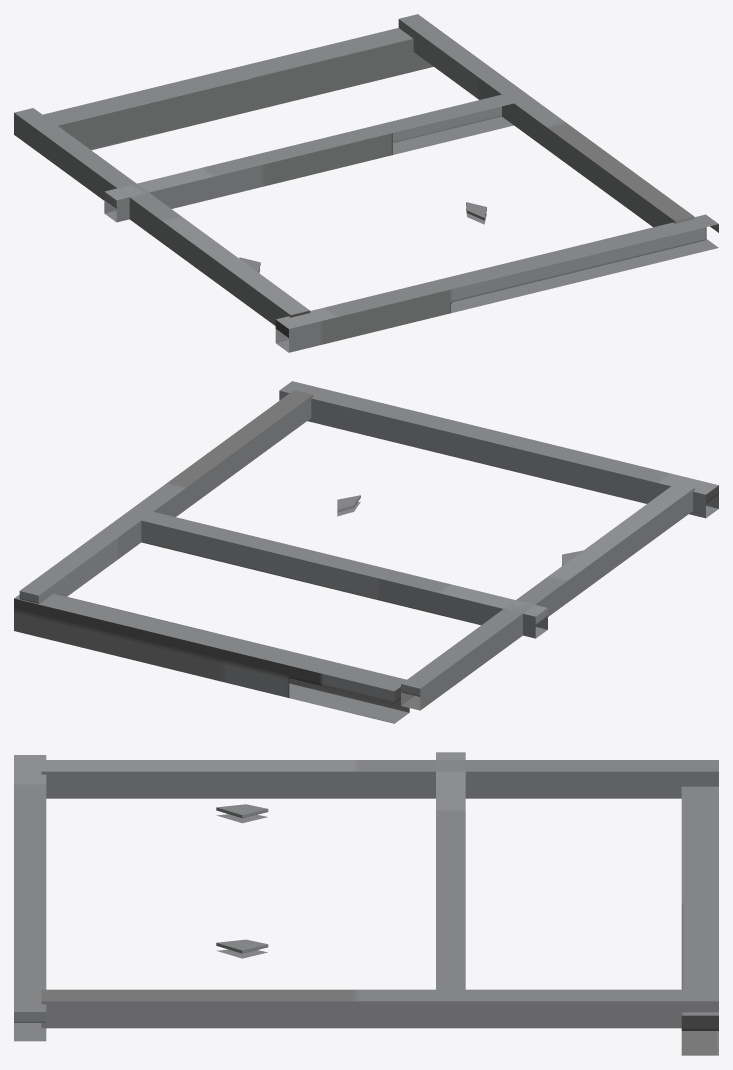
The picture shows the model from 3 angles, top to bottom: view 1: azimuth 30°, elevation 25°; view 2: azimuth 150°, elevation 25°; view 3: azimuth 270°, elevation 25°; orthographic projection. The views are drawn at different scales.
Bounding box in the file's own units: 0.8165 × 0.0757 × 0.9466.
